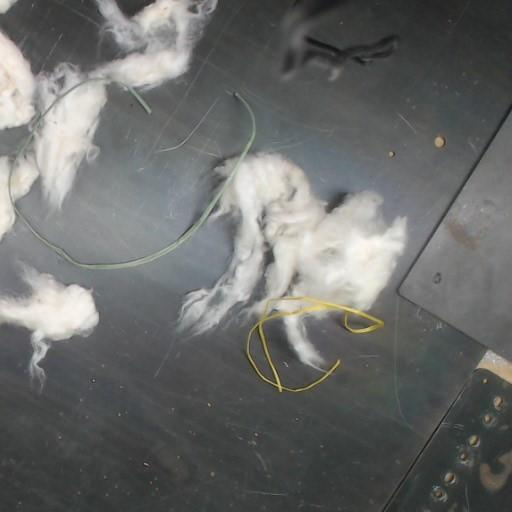conveyor belt: (0, 0, 511, 511), (0, 0, 115, 69), (0, 128, 25, 153)
cotton: (0, 0, 217, 239), (178, 152, 406, 333), (0, 267, 98, 381)
thread: (9, 76, 255, 269), (245, 296, 383, 392), (120, 83, 151, 113)
